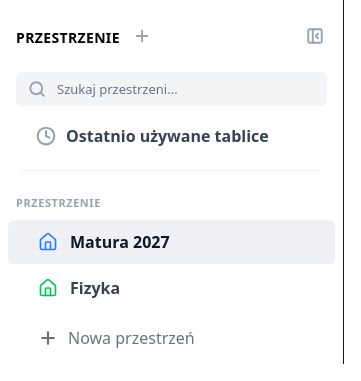
Scenario: WorkspaceSidebar - desktop bez zmian › przycisk "Zwiń sidebar" zwija do wersji z ikonami, bez szuflady i tla
Click the button titled "Zwiń sidebar". click: (315,36)
box: [303,24,327,48]
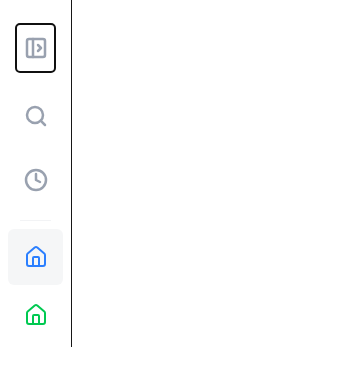
Check: the button titled "Rozwiń sidebar" is shown, box [16,24,55,72]
